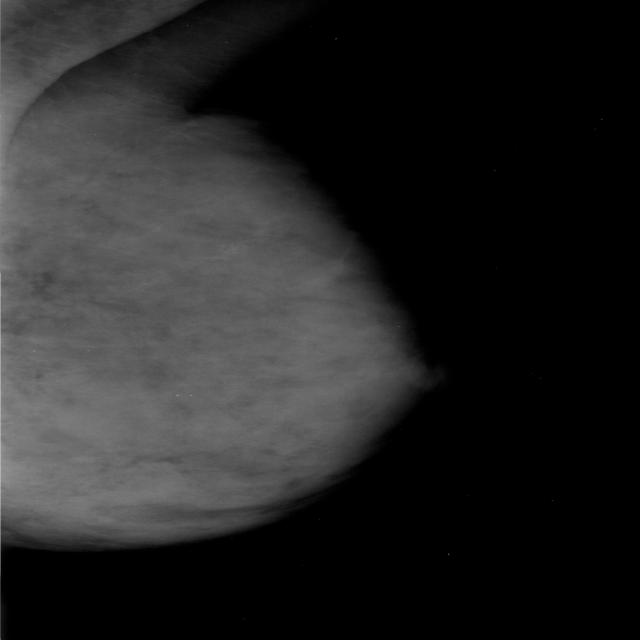normal: (0, 81, 443, 556)
